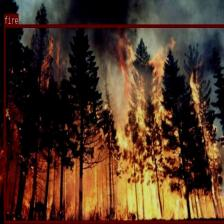fire: (3, 24, 224, 222)
